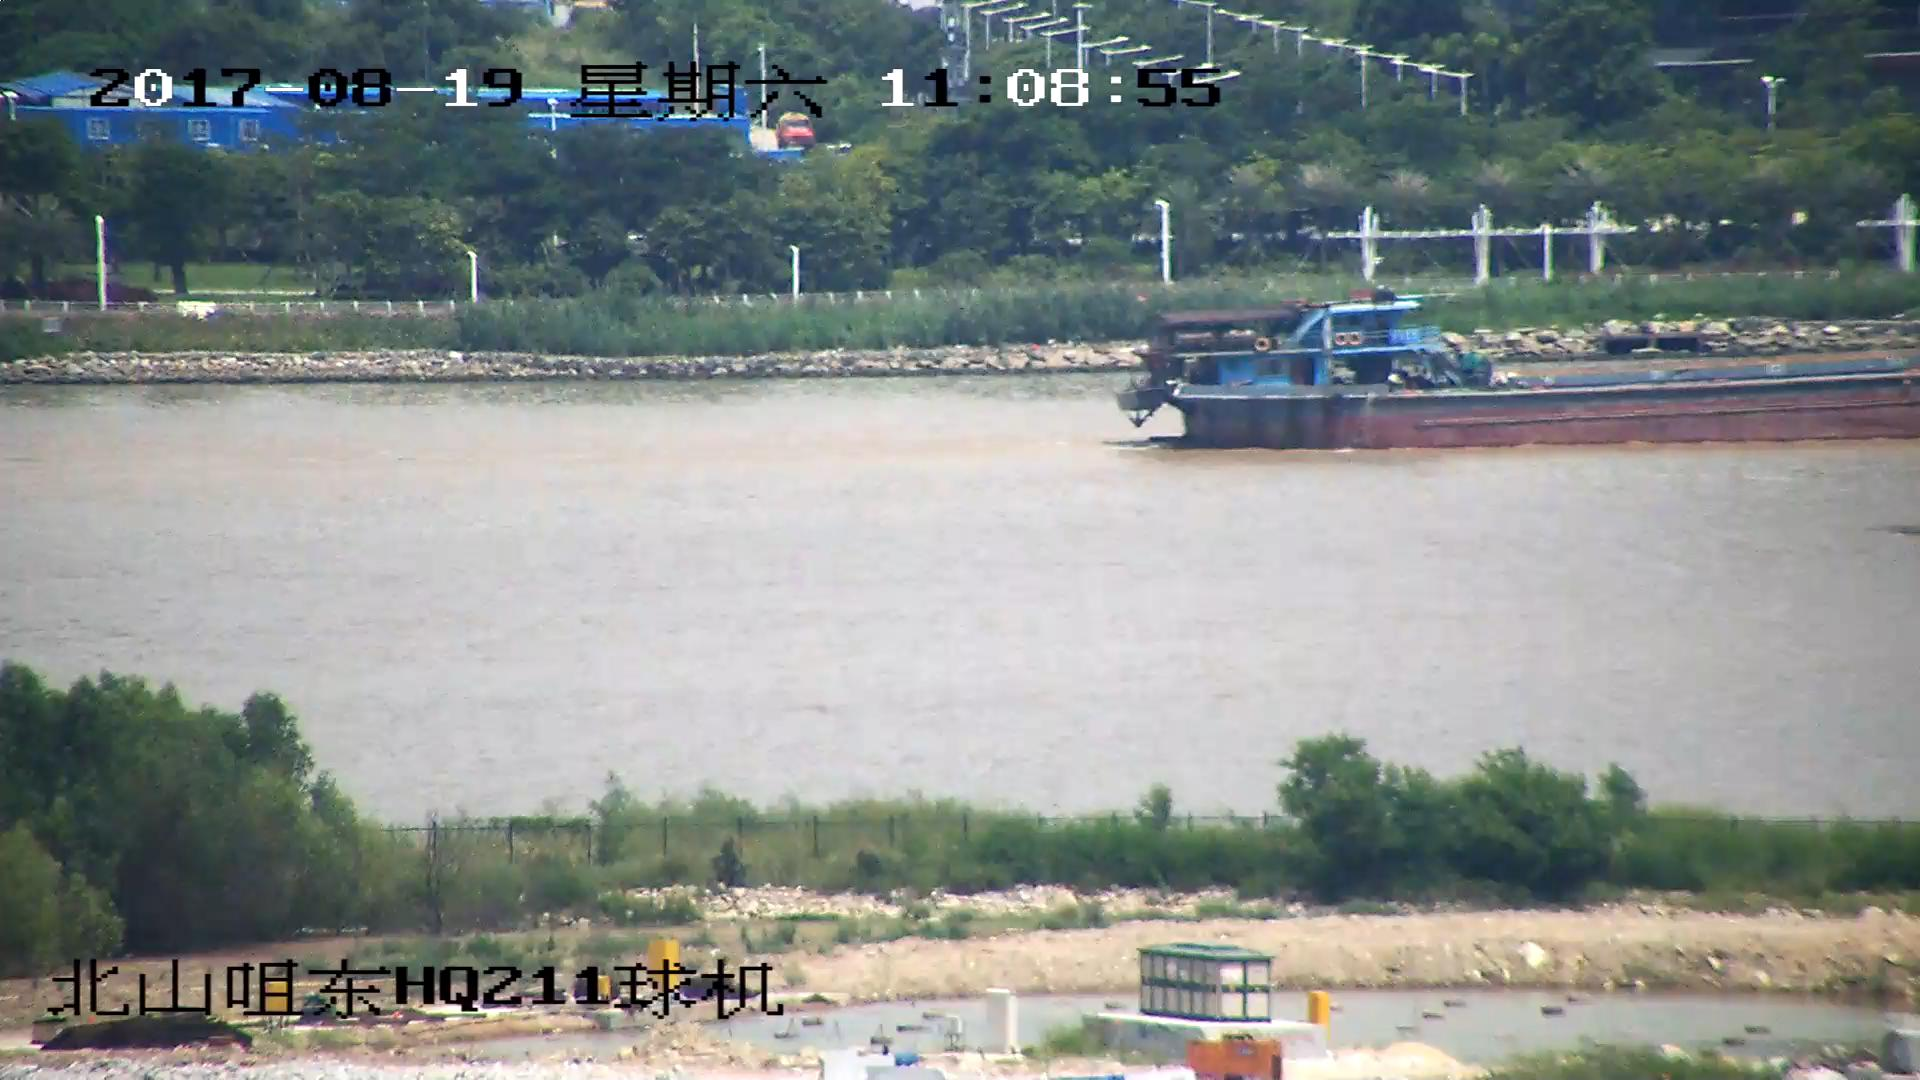bulk cargo carrier: (1116, 295, 1920, 450)
